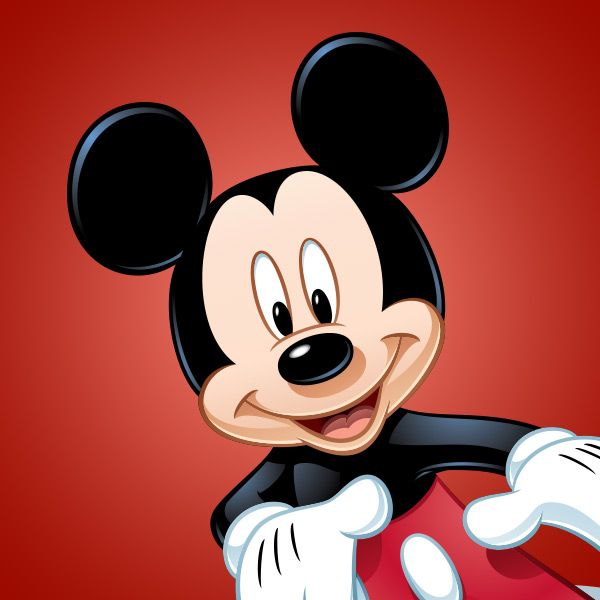Mickey: (65, 30, 455, 458)
